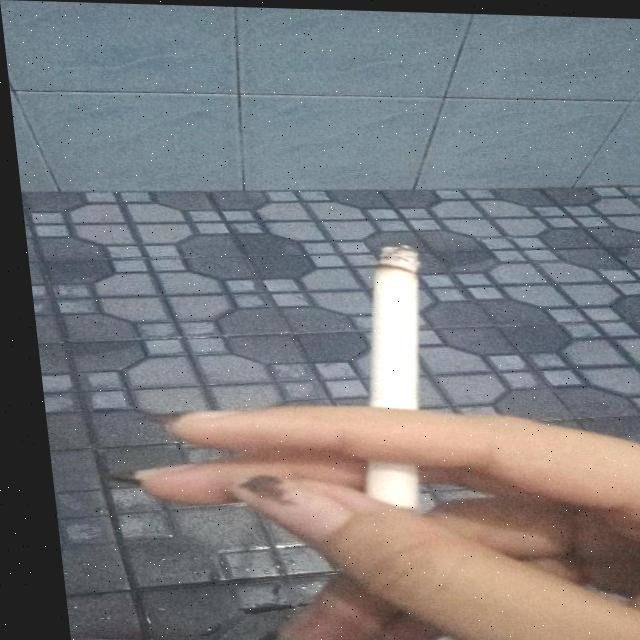cigarette: (326, 245, 438, 508)
